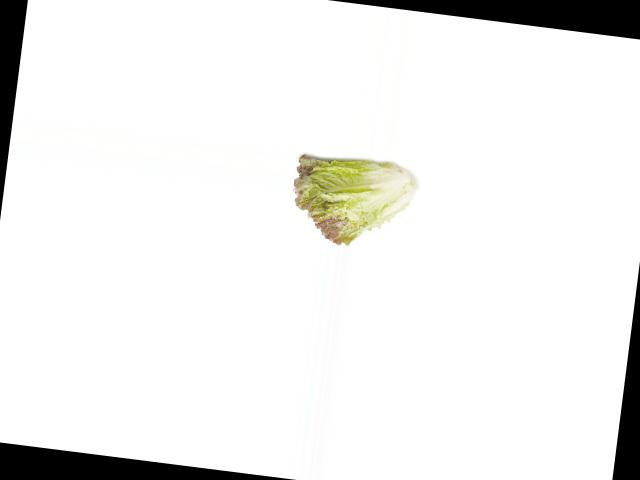lettuce: (285, 152, 418, 251)
